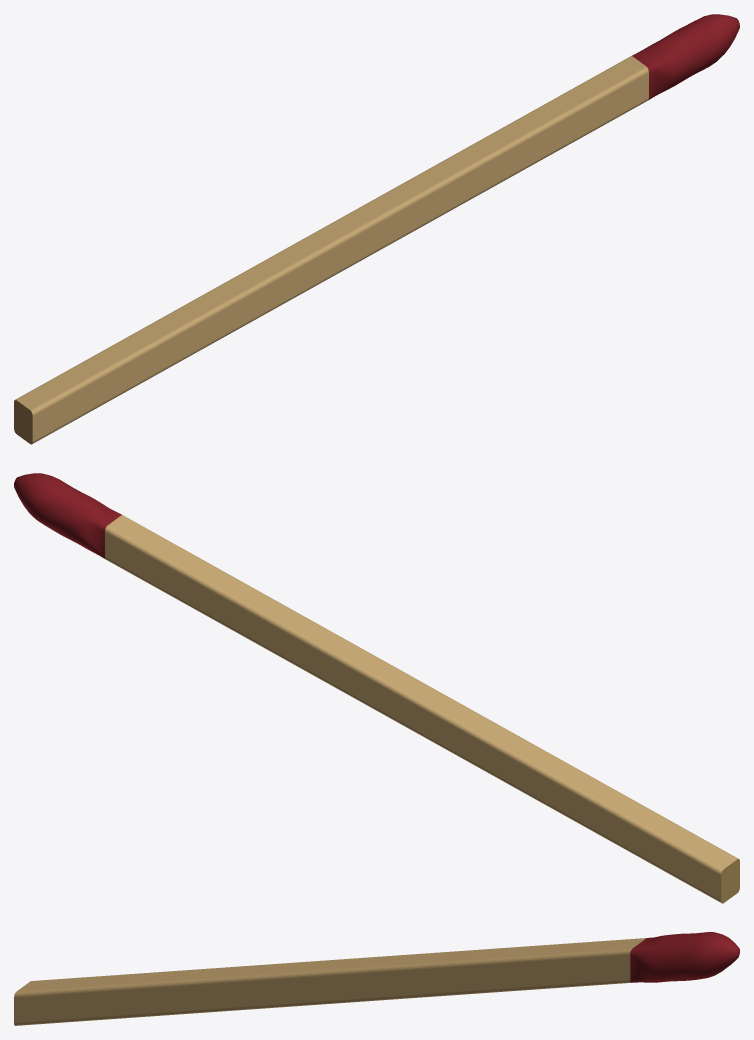
File: A-NEW-20261027-MATCH-001_LOD0_R3.glb
3 views of the same model, one above another, from view 1: azimuth 30°, elevation 25°; view 2: azimuth 150°, elevation 25°; view 3: azimuth 330°, elevation 25° (orthographic).
Visible parts, largest first — view 1: continuous original squared match shaft and short head; view 2: continuous original squared match shaft and short head; view 3: continuous original squared match shaft and short head.
Part boxes in pixels (box(x1,y1,x2,y2)): continuous original squared match shaft and short head: box(14, 14, 739, 444); continuous original squared match shaft and short head: box(14, 473, 739, 903); continuous original squared match shaft and short head: box(14, 932, 739, 1025).
Bounding box in the file's own units: 0.0442 × 0.015 × 0.00261.
